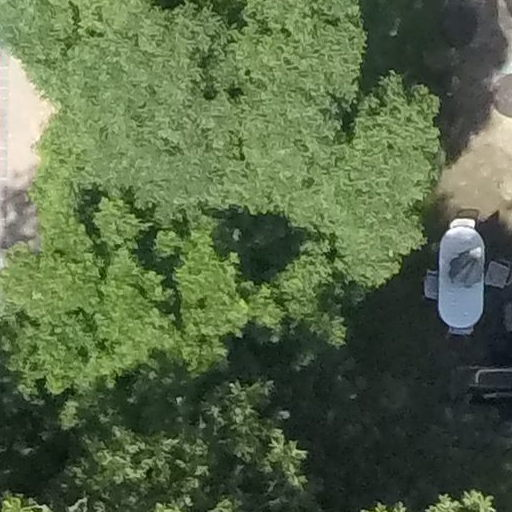chair: (483, 255, 512, 291), (421, 263, 442, 301), (447, 212, 481, 232)
table: (436, 221, 490, 337)
